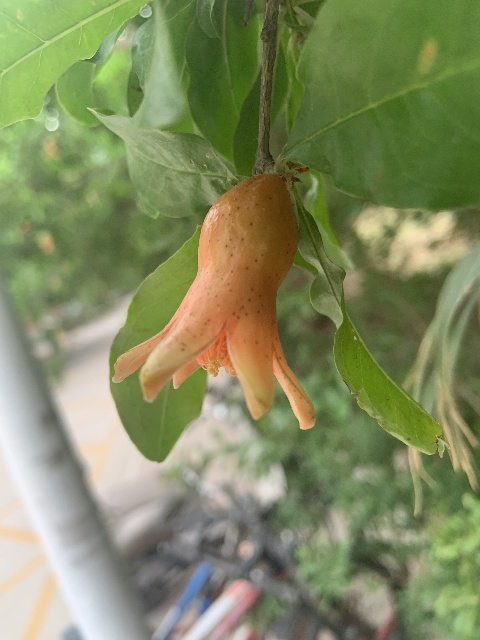early-fruit: (111, 173, 318, 430)
